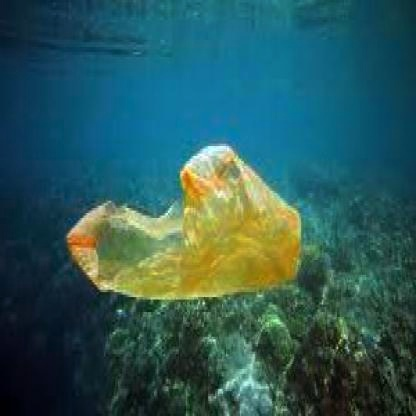pbag: (65, 141, 305, 302)
